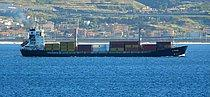Ship: (18, 27, 190, 60)
